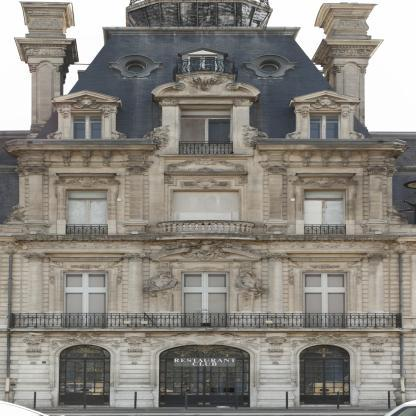Balcony: (10, 313, 402, 331), (157, 220, 255, 236)
Blind: (304, 199, 346, 235), (66, 199, 108, 235)
Building Outline: (0, 0, 416, 407)
Cornice: (149, 247, 263, 261), (293, 90, 360, 102), (52, 90, 119, 102), (108, 54, 163, 65), (243, 54, 297, 65), (178, 47, 228, 55), (287, 257, 363, 262), (48, 257, 123, 262), (295, 172, 357, 177), (55, 173, 117, 178), (164, 172, 248, 174)
Deco: (147, 239, 262, 261), (150, 332, 260, 351), (143, 271, 181, 316), (233, 270, 267, 316), (291, 333, 362, 353), (50, 333, 120, 352), (167, 157, 245, 172), (176, 72, 235, 91), (25, 241, 145, 248), (267, 241, 386, 248), (365, 333, 389, 364), (123, 333, 147, 364), (22, 333, 45, 364), (264, 333, 287, 364), (181, 177, 231, 189), (304, 177, 347, 186), (65, 177, 108, 186), (310, 97, 341, 109), (71, 97, 102, 109), (305, 265, 345, 272), (66, 264, 105, 271)
Door: (160, 358, 250, 407), (173, 191, 238, 234), (59, 358, 110, 405), (300, 359, 350, 405), (182, 289, 230, 328), (63, 289, 108, 328), (303, 289, 347, 328)
Facade: (0, 139, 415, 407)
Floor: (1, 238, 416, 331), (18, 157, 393, 238)
Floor Slab: (1, 328, 416, 331), (1, 235, 416, 238), (18, 154, 398, 157)
Ground Floor: (1, 331, 416, 408)
Pillar: (365, 252, 390, 316), (22, 252, 47, 315), (264, 252, 288, 315), (124, 252, 148, 315), (24, 165, 47, 223), (125, 165, 148, 223), (265, 165, 287, 223), (365, 165, 387, 223)
Roof: (34, 35, 374, 139)
Shop: (174, 358, 236, 367)
Top Floor: (18, 35, 396, 157)
Window: (178, 106, 233, 154), (304, 199, 346, 235), (66, 199, 108, 235), (160, 345, 250, 358), (182, 272, 230, 289), (71, 114, 102, 139), (63, 272, 108, 289), (303, 272, 347, 289), (310, 114, 339, 138), (59, 345, 111, 358), (299, 345, 350, 358), (188, 56, 217, 75), (304, 191, 346, 199), (66, 191, 108, 199)
dont: (0, 400, 65, 416), (383, 400, 416, 416), (388, 391, 391, 409), (134, 391, 137, 409), (235, 391, 238, 409), (337, 391, 340, 409), (83, 392, 86, 409), (34, 391, 36, 409), (185, 391, 187, 409), (286, 391, 288, 409)
